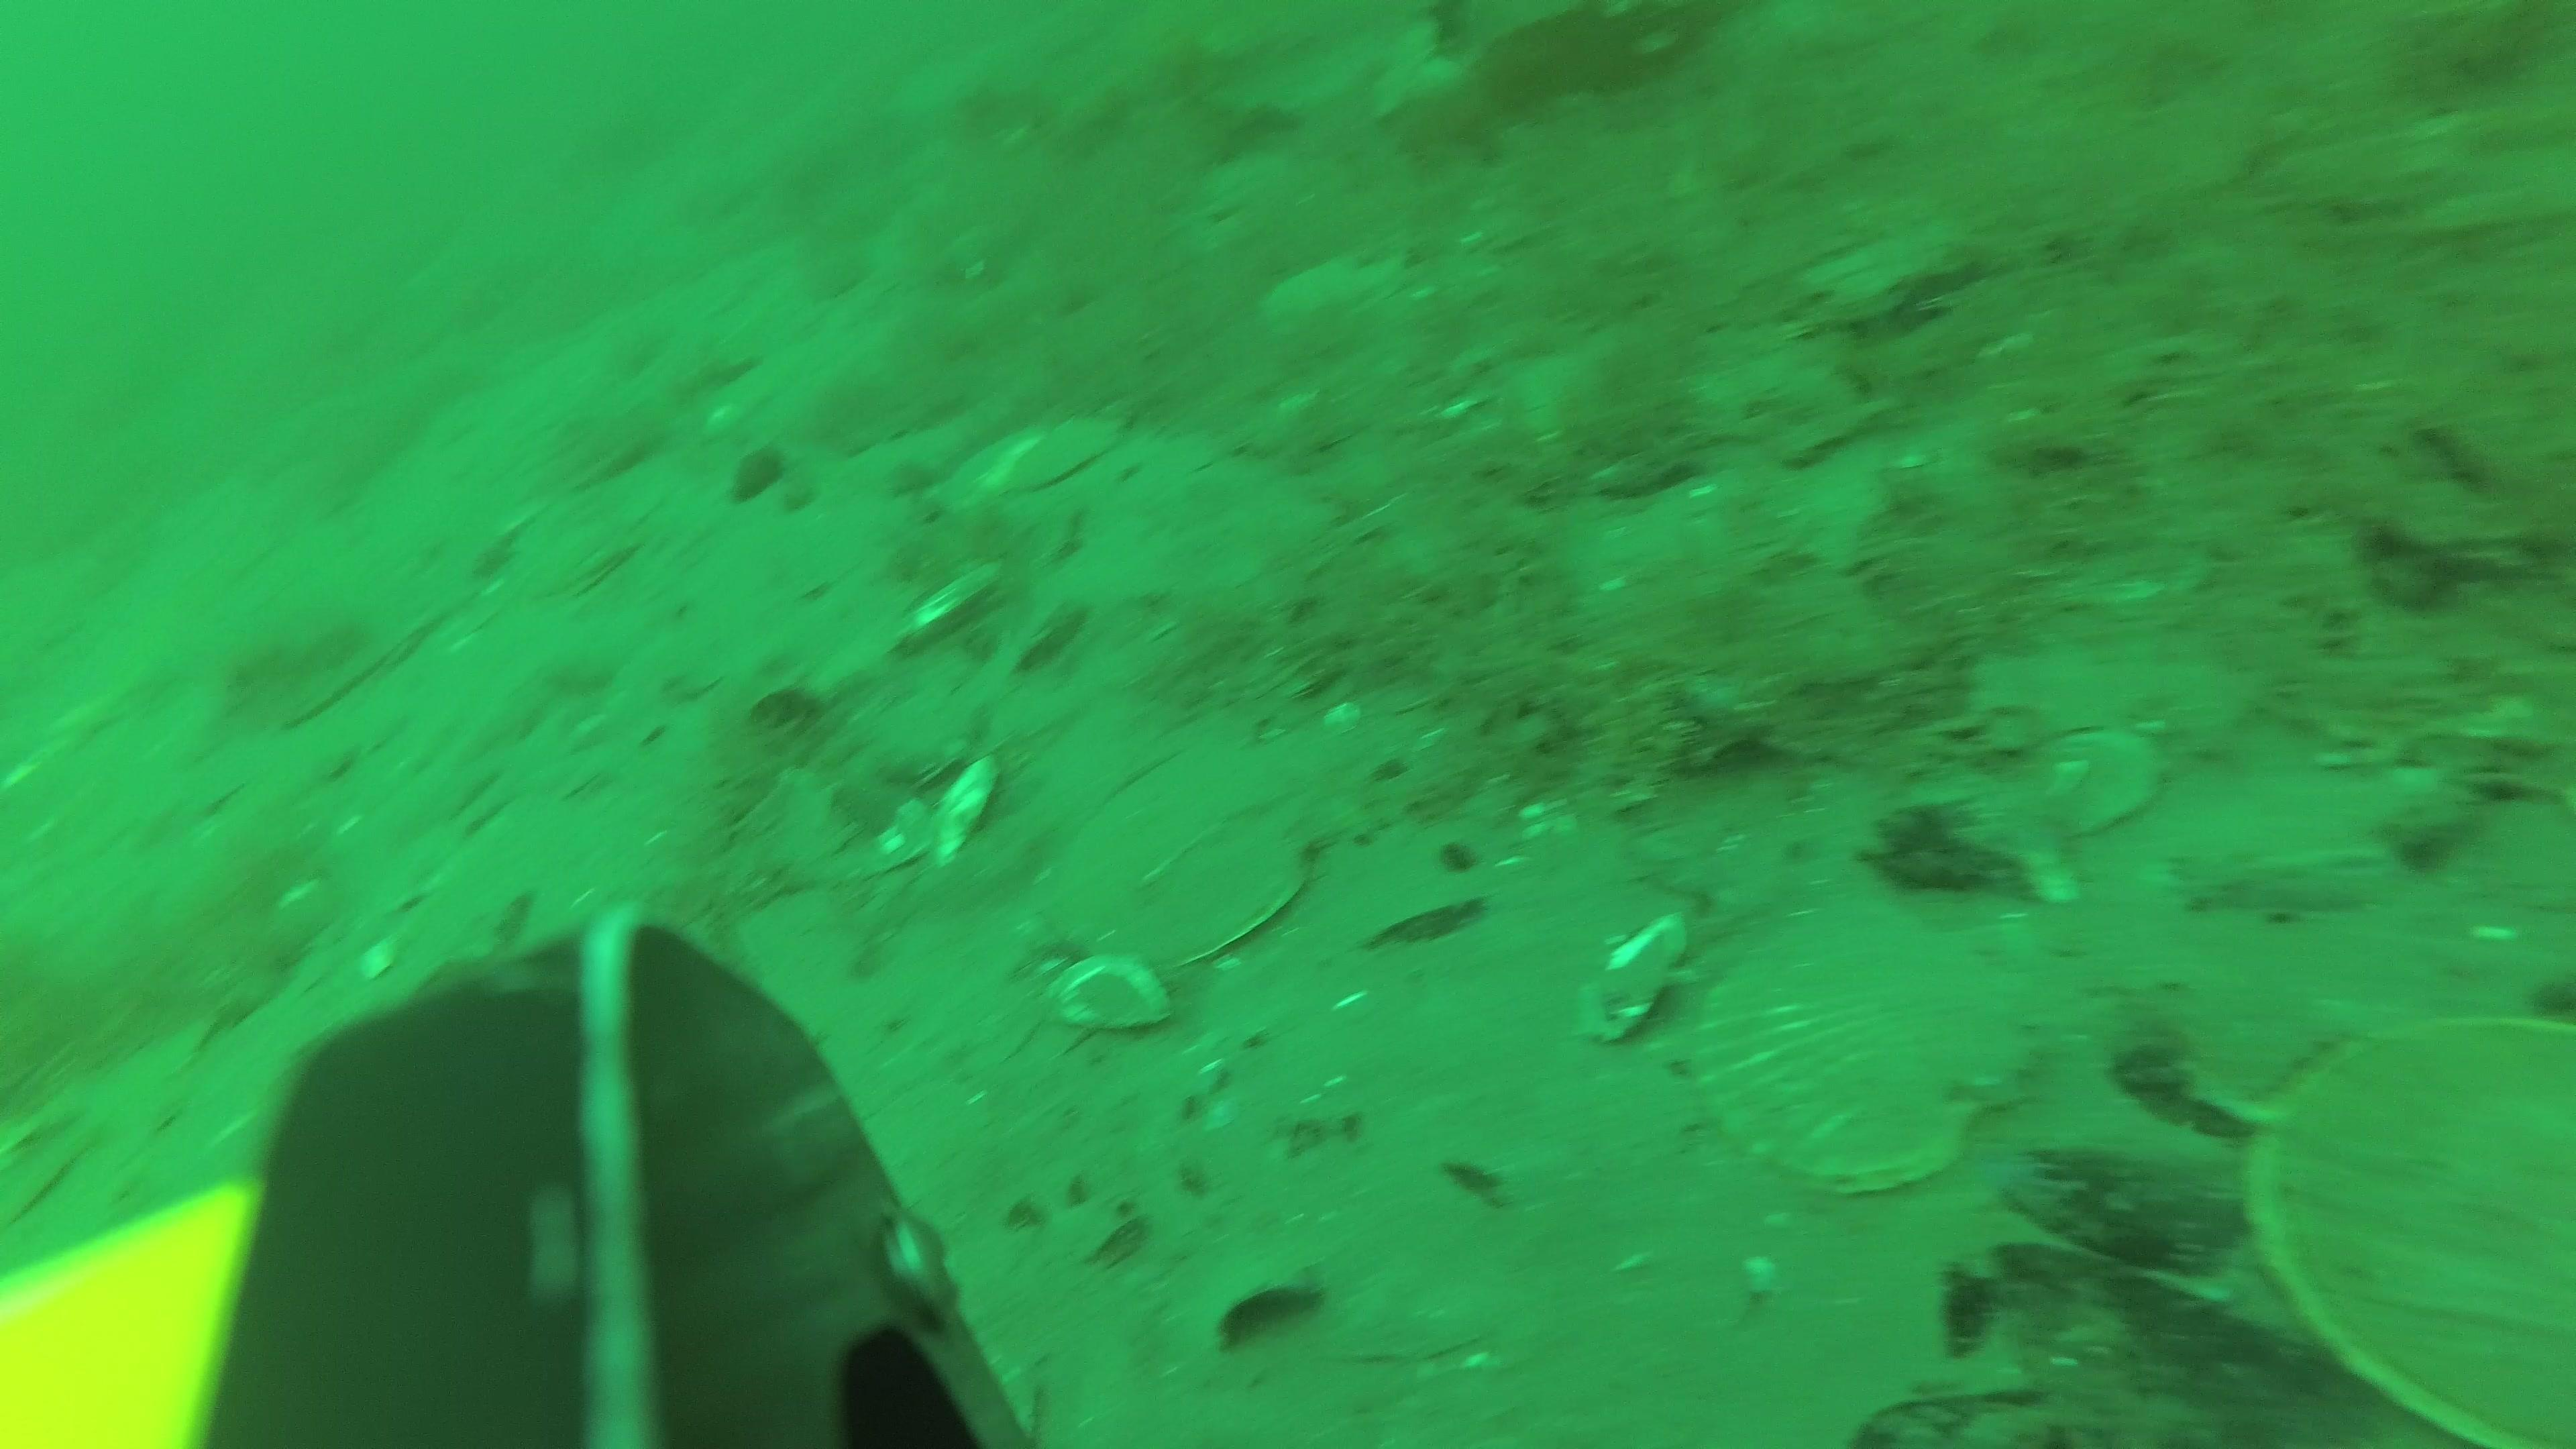scallop: (2250, 1016, 2576, 1449), (1697, 911, 2031, 1192), (1046, 743, 1361, 966), (533, 502, 651, 600), (920, 430, 1035, 510), (1017, 405, 1123, 488)
